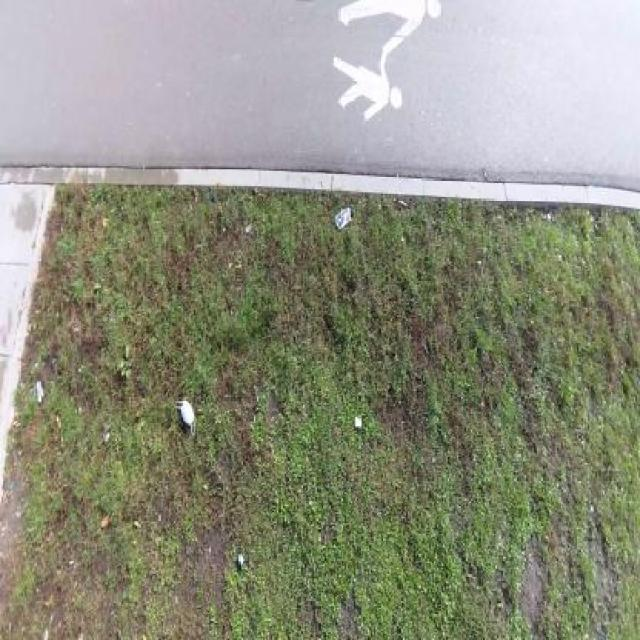Garbage: (179, 395, 198, 425), (334, 207, 351, 232), (237, 550, 250, 575)
